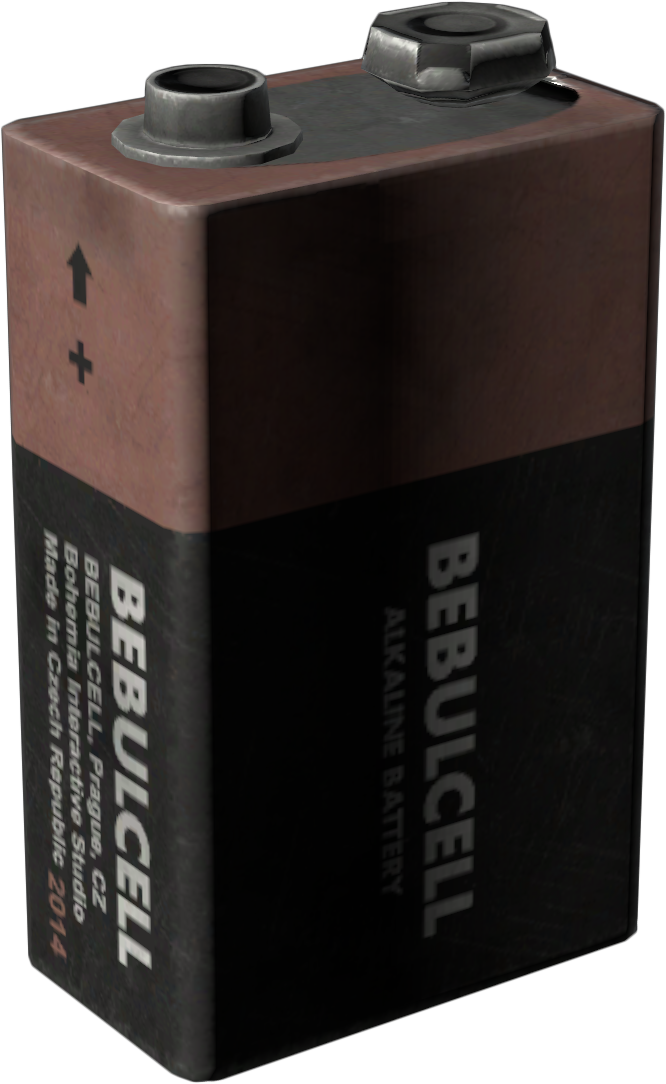9V: (7, 65, 648, 1049)
